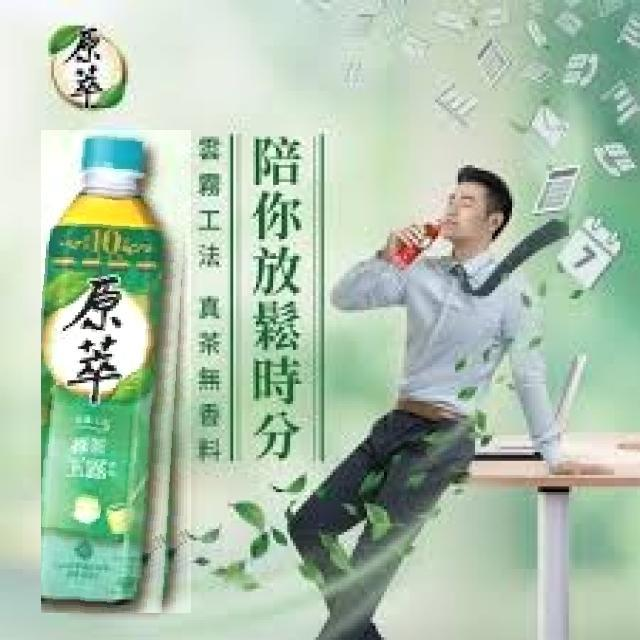YuanTsui_GreenTea: (42, 130, 192, 613)
